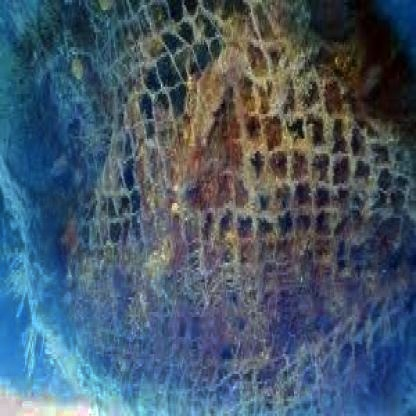net: (22, 7, 402, 416)
